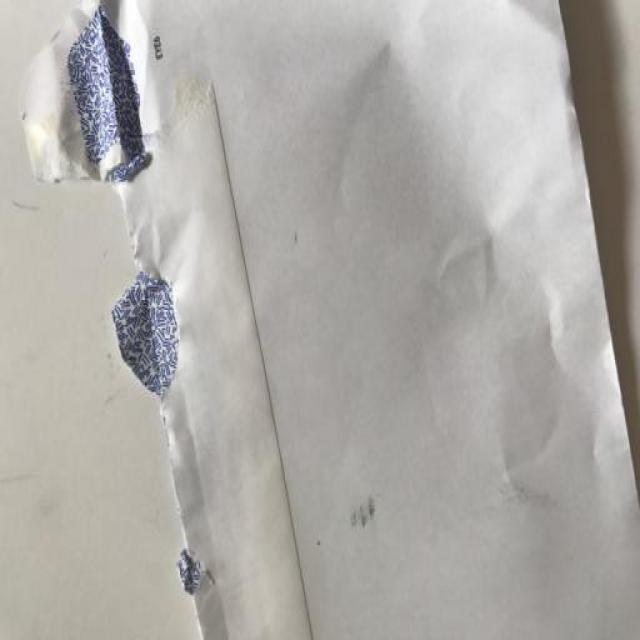paper: (22, 3, 640, 637)
